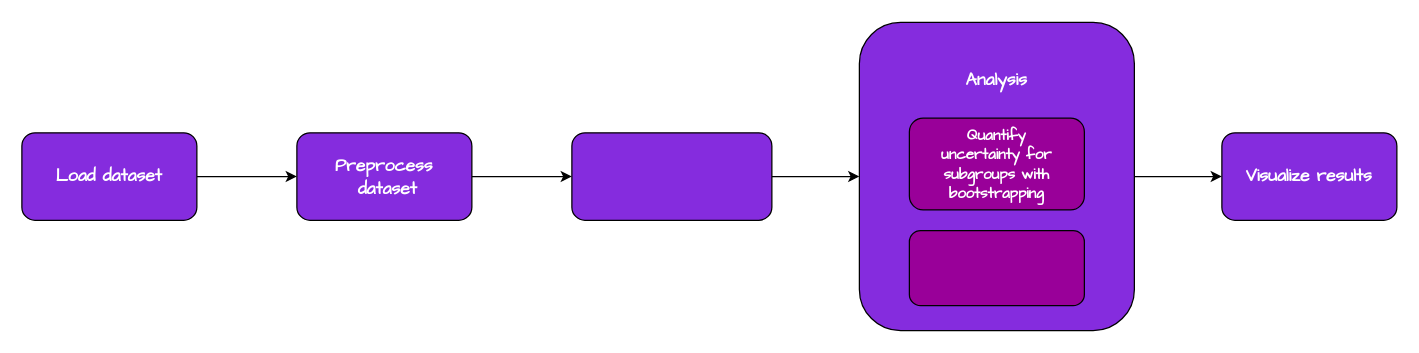
Image size: 1419x353. Some labels were removed from this diagram. Here are the shapes that lost their labels. From the top down, the centre of each, then its label:
the point at 671,176: Fine-tune models for dataset
the point at 996,267: Compute bias metrics
